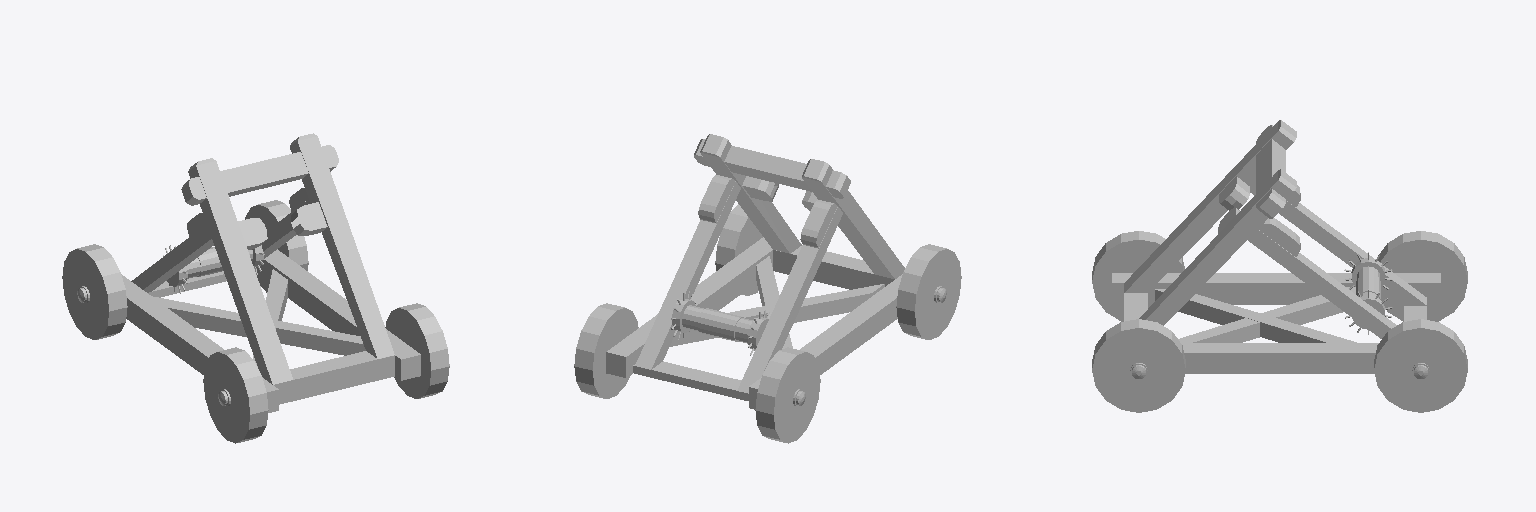
3 views of the same model, side by side, from view 1: azimuth 30°, elevation 25°; view 2: azimuth 150°, elevation 25°; view 3: azimuth 270°, elevation 25° (orthographic).
Visible parts, largest first — view 1: CatapultStandLeftFront, CatapultStandRightFront, WheelLeftFront, WheelLeftBack, CatapultBaseRight, CatapultBaseLeft, WheelRightFront, CatapultBottom1, CatapultBaseFront, CatapultBlock, CatapultStandLeftBack, WheelRightBack (+6 smaller); view 2: WheelLeftBack, WheelLeftFront, CatapultBaseRight, CatapultStandLeftBack, CatapultStandRightBack, WheelRightBack, CatapultBaseLeft, CatapultStandLeftFront, CatapultStandRightFront, CatapultBlock, Release, CatapultBottom2 (+7 smaller); view 3: WheelRightBack, WheelRightFront, CatapultBaseRight, CatapultBaseLeft, CatapultStandLeftFront, CatapultStandRightFront, WheelLeftBack, CatapultStandRightBack, WheelLeftFront, CatapultBottom2, CatapultStandLeftBack, CatapultBottom1 (+5 smaller).
Part boxes in pixels (x1,y1,x2,y2): CatapultStandLeftFront: (188, 158, 292, 384); CatapultStandRightFront: (290, 133, 394, 358); WheelLeftFront: (203, 347, 268, 443); WheelLeftBack: (62, 244, 127, 339); CatapultBaseRight: (256, 249, 420, 380); CatapultBaseLeft: (121, 274, 278, 412); WheelRightFront: (385, 303, 449, 398); CatapultBottom1: (152, 296, 365, 355); CatapultBaseFront: (274, 351, 394, 404); CatapultBlock: (181, 145, 338, 205); CatapultStandLeftBack: (131, 224, 213, 292); WheelRightBack: (245, 200, 308, 292); WheelLeftBack: (755, 347, 820, 443); WheelLeftFront: (896, 244, 961, 339); CatapultBaseRight: (606, 237, 772, 377); CatapultStandLeftBack: (737, 207, 842, 393); CatapultStandRightBack: (635, 181, 740, 369); WheelRightBack: (574, 303, 638, 398); CatapultBaseLeft: (749, 274, 902, 409); CatapultStandLeftFront: (802, 159, 904, 278); CatapultStandRightFront: (700, 134, 801, 253); CatapultBlock: (694, 139, 850, 198); Release: (672, 299, 768, 350); CatapultBottom2: (670, 284, 884, 346); WheelRightBack: (1374, 319, 1467, 412); WheelRightFront: (1092, 319, 1185, 412); CatapultBaseRight: (1181, 343, 1378, 373); CatapultBaseLeft: (1112, 273, 1440, 304); CatapultStandLeftFront: (1124, 120, 1296, 292); CatapultStandRightFront: (1139, 169, 1296, 325); WheelLeftBack: (1378, 231, 1467, 321); CatapultStandRightBack: (1248, 230, 1396, 338); WheelLeftFront: (1092, 231, 1184, 321); CatapultBottom2: (1155, 289, 1356, 342); CatapultStandLeftBack: (1250, 182, 1426, 305); CatapultBottom1: (1178, 287, 1355, 342).
Size of the model in its own units: 1.97 by 1.93 by 3.03.